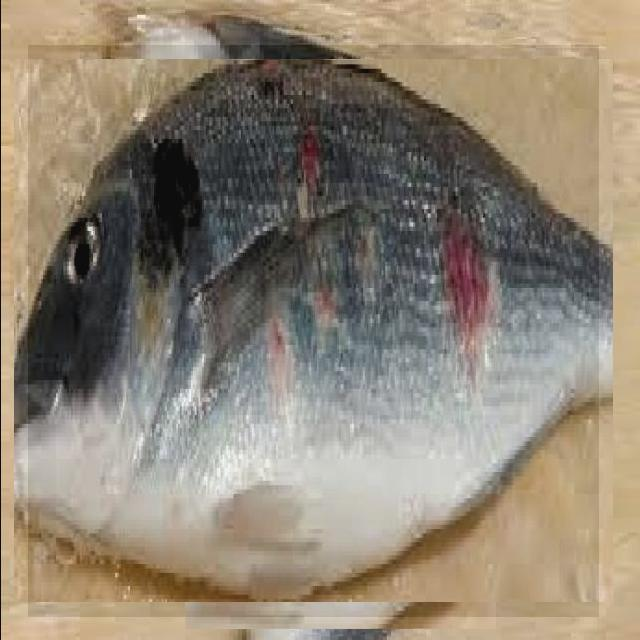EUS Disease: (27, 45, 598, 617), (135, 171, 545, 581)
